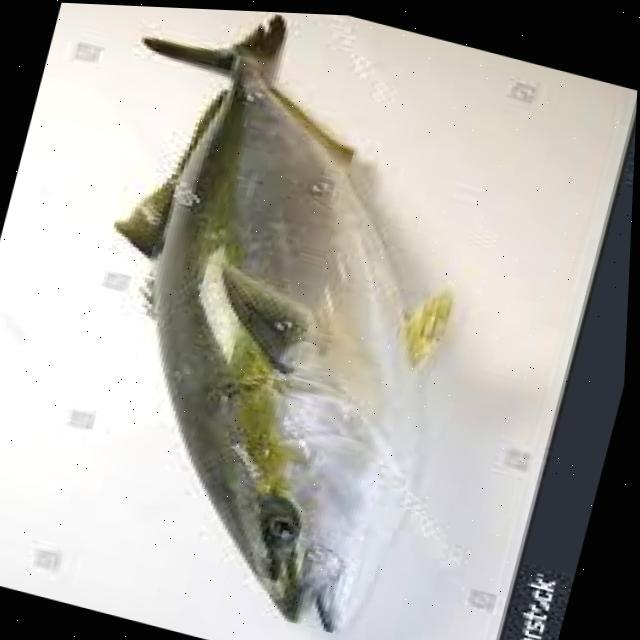Kingfish: (6, 1, 528, 640)
